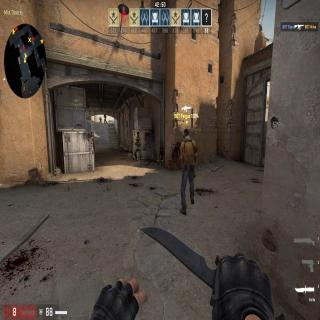CT-Body: (134, 130, 142, 163), (103, 115, 107, 124), (99, 115, 102, 124)
CT-Head: (136, 131, 140, 136), (99, 116, 101, 118)
